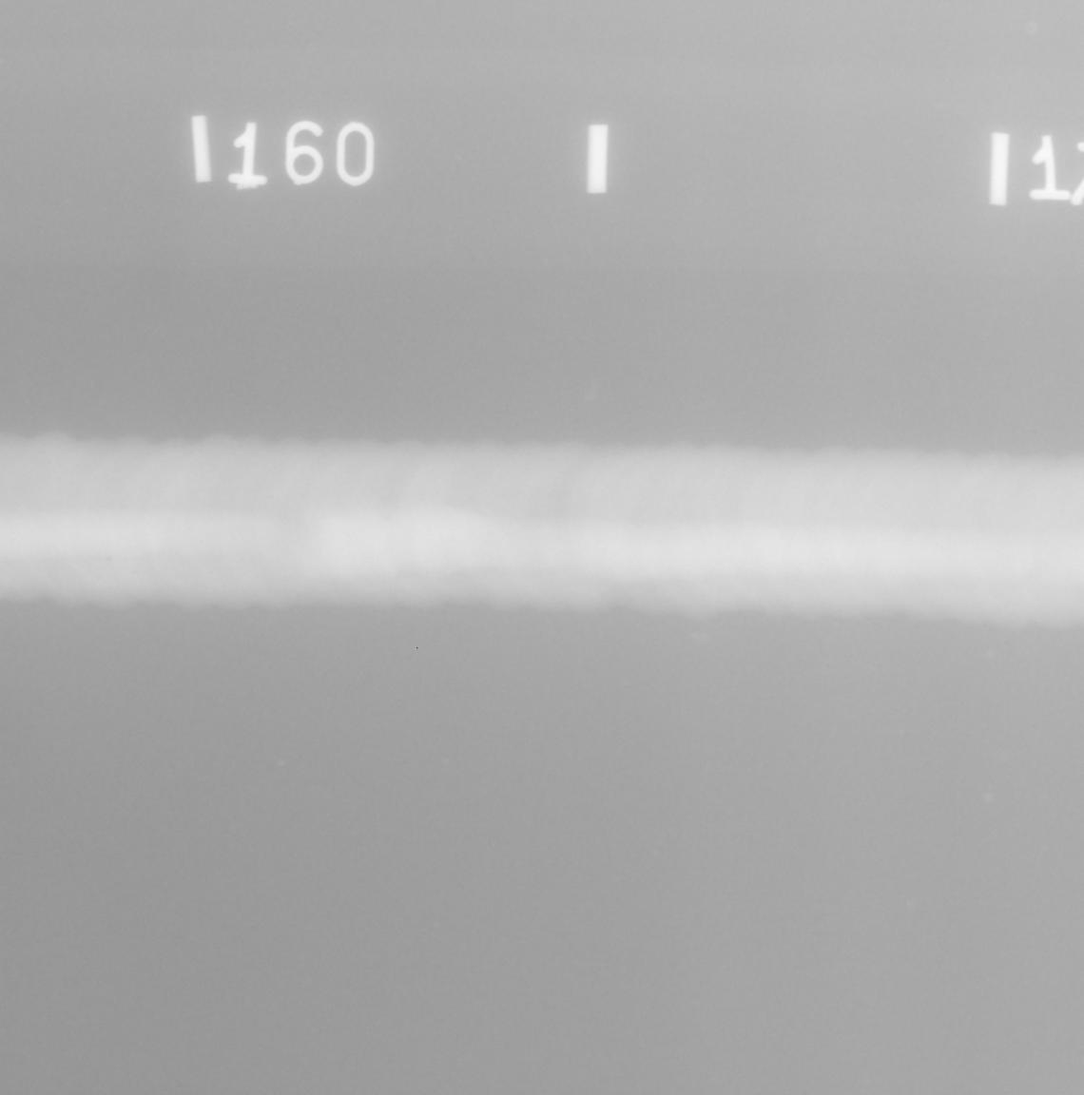Pore/Porosity: (133, 572, 138, 575), (107, 558, 111, 561)
